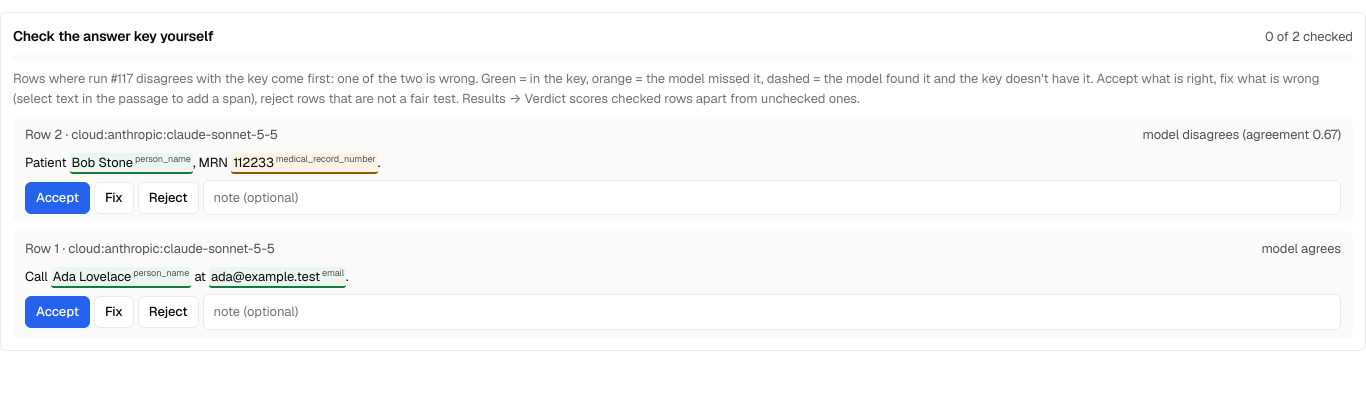
Test case: AnswerKeyReviewPanel › shows the server error on a refused verdict
Expected: the element with test id "akr-row-1" is shown, [13,117,1353,224]
Click the button with test id "akr-reject-1" at (168, 198), box [138,182,198,214]
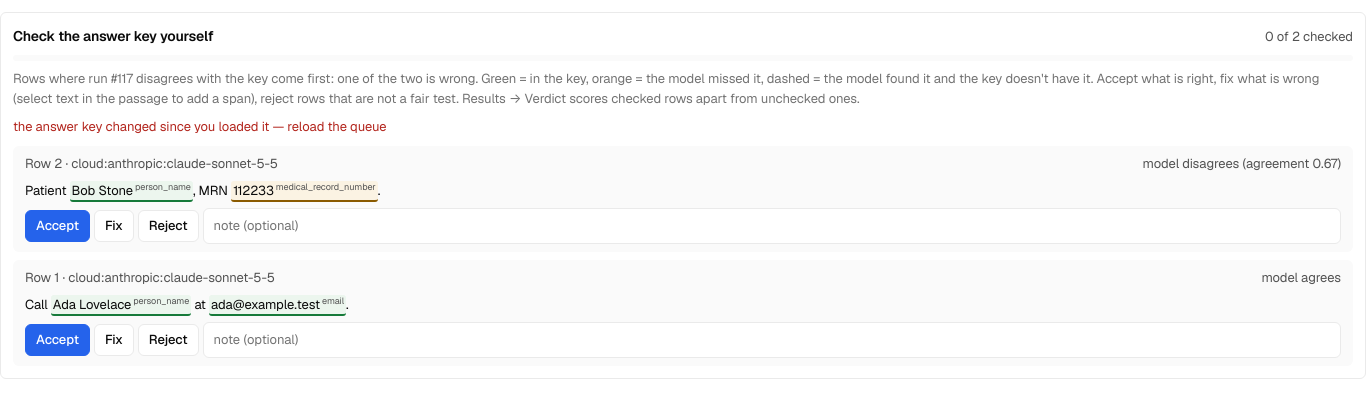
Result: the text with test id "akr-error" shows "reload the queue" at [13,118,387,135]
